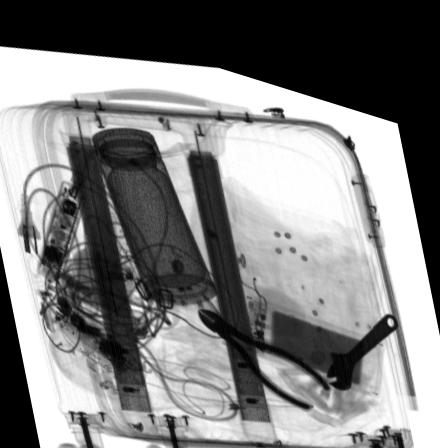Pliers: (195, 296, 332, 391)
Powerbank: (251, 280, 365, 365)
Wrench: (326, 290, 397, 371)
